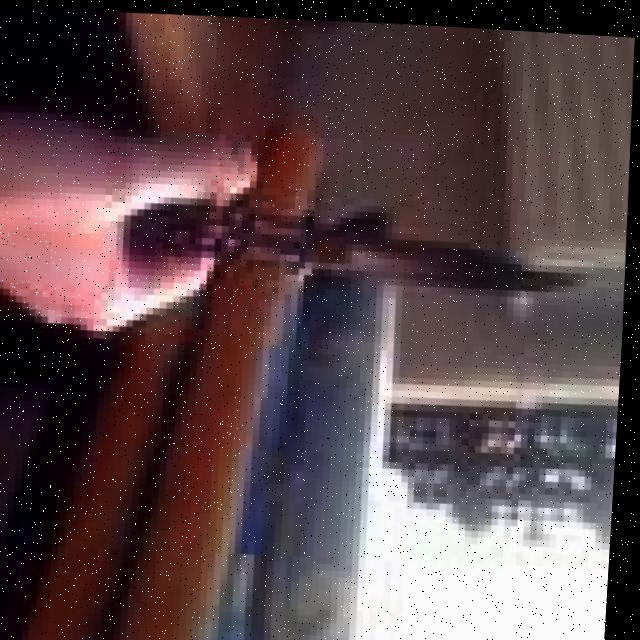knife: (142, 180, 608, 301)
